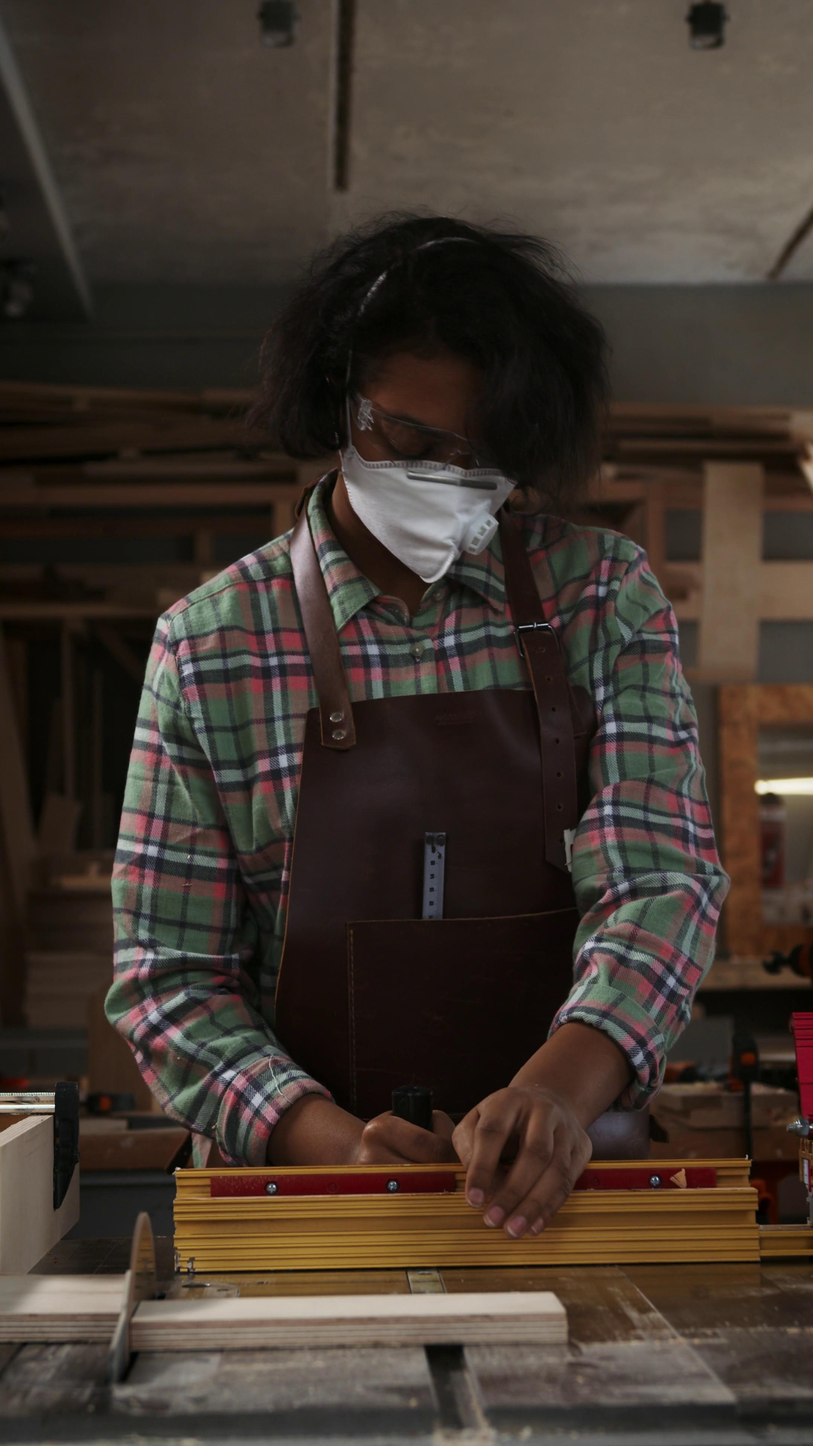mask: (337, 447, 518, 583)
person: (105, 216, 731, 1243)
